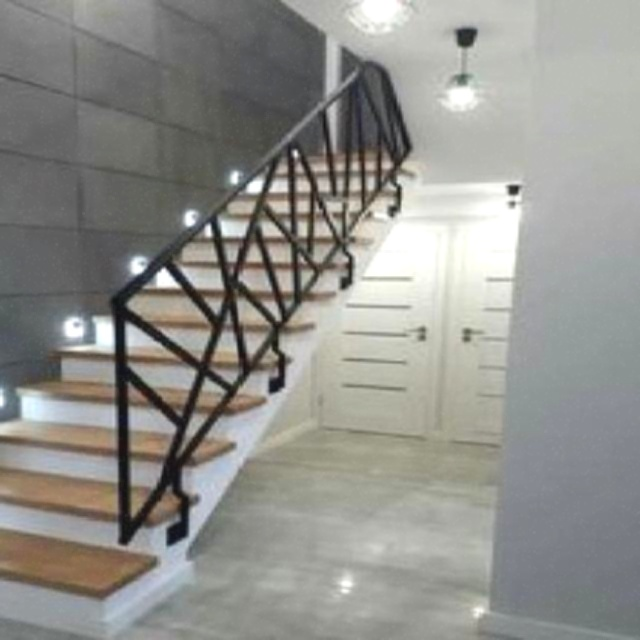stair: (3, 96, 448, 625)
